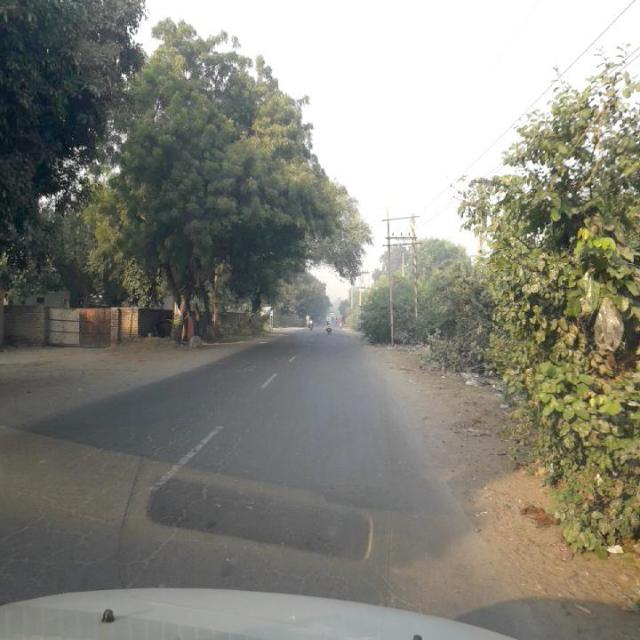crack: (1, 422, 244, 586)
